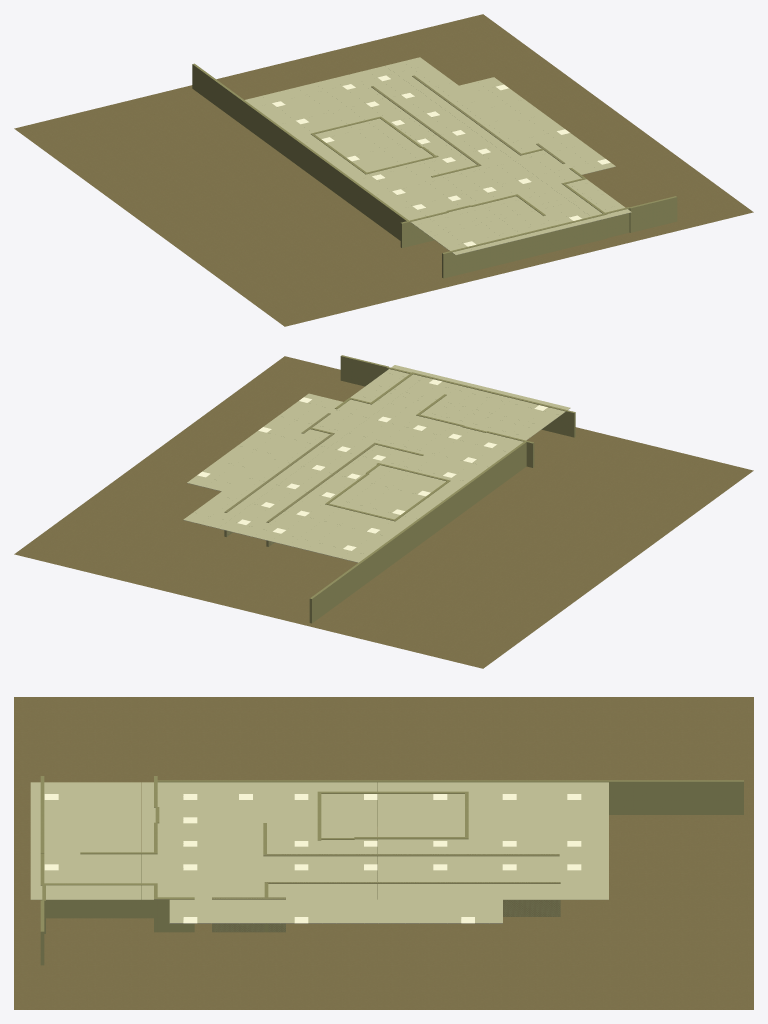
File: backrooms.glb
3 renders of one model, top to bottom at view 1: azimuth 30°, elevation 25°; view 2: azimuth 150°, elevation 25°; view 3: azimuth 270°, elevation 25°, orthographic. The views are drawn at different scales.
Visible parts, largest first — view 1: floor.001, floor.003, floor.002, floor, wall1.044, wall1.045, wall1.043, wall1.047, wall1.008, wall1.039, wall1.040, wall1.042 (+3 smaller); view 2: floor.003, floor.001, floor.002, floor, wall1.044, wall1.043; view 3: floor.002, floor.003, floor, floor.001, wall1.054, wall1.055, wall1.056, wall1.053, wall1.035, wall1.037, wall1.001, wall1.038 (+1 smaller).
Part boxes in pixels (box(x1,y1,x2,y2)): floor.001: box(150, 185, 518, 326); floor.003: box(14, 71, 323, 227); floor.002: box(249, 14, 617, 126); floor: box(510, 113, 753, 269); wall1.044: box(652, 196, 677, 226); wall1.045: box(629, 202, 653, 232); wall1.043: box(442, 247, 466, 278); wall1.047: box(583, 213, 607, 244); wall1.008: box(400, 217, 425, 247); wall1.039: box(536, 224, 560, 255); wall1.040: box(513, 230, 536, 261); wall1.042: box(466, 241, 490, 272); floor.003: box(249, 527, 617, 668); floor.001: box(444, 427, 753, 569); floor.002: box(14, 455, 325, 611); floor: box(150, 356, 364, 468); wall1.044: box(340, 355, 364, 386); wall1.043: box(551, 406, 575, 437); floor.002: box(384, 853, 753, 1009); floor.003: box(384, 697, 753, 853); floor: box(14, 853, 383, 1009); floor.001: box(14, 697, 383, 853); wall1.054: box(633, 780, 670, 814); wall1.055: box(670, 780, 707, 814); wall1.056: box(707, 780, 743, 814); wall1.053: box(596, 780, 633, 814); wall1.035: box(117, 883, 153, 918); wall1.037: box(80, 883, 116, 918); wall1.001: box(157, 897, 194, 932); wall1.038: box(43, 883, 80, 918).
Bounding box in the file's own units: 79.99 × 4.68 × 79.97.
Materials: 6 (3 with a texture image).
